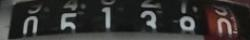digits: (53, 1, 86, 40), (96, 0, 119, 40), (173, 15, 196, 30), (216, 17, 233, 35), (22, 15, 38, 34), (140, 11, 157, 28)
